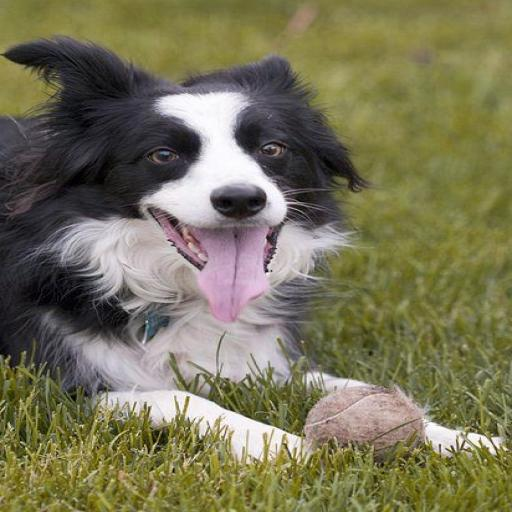dog_face: (27, 38, 352, 297)
